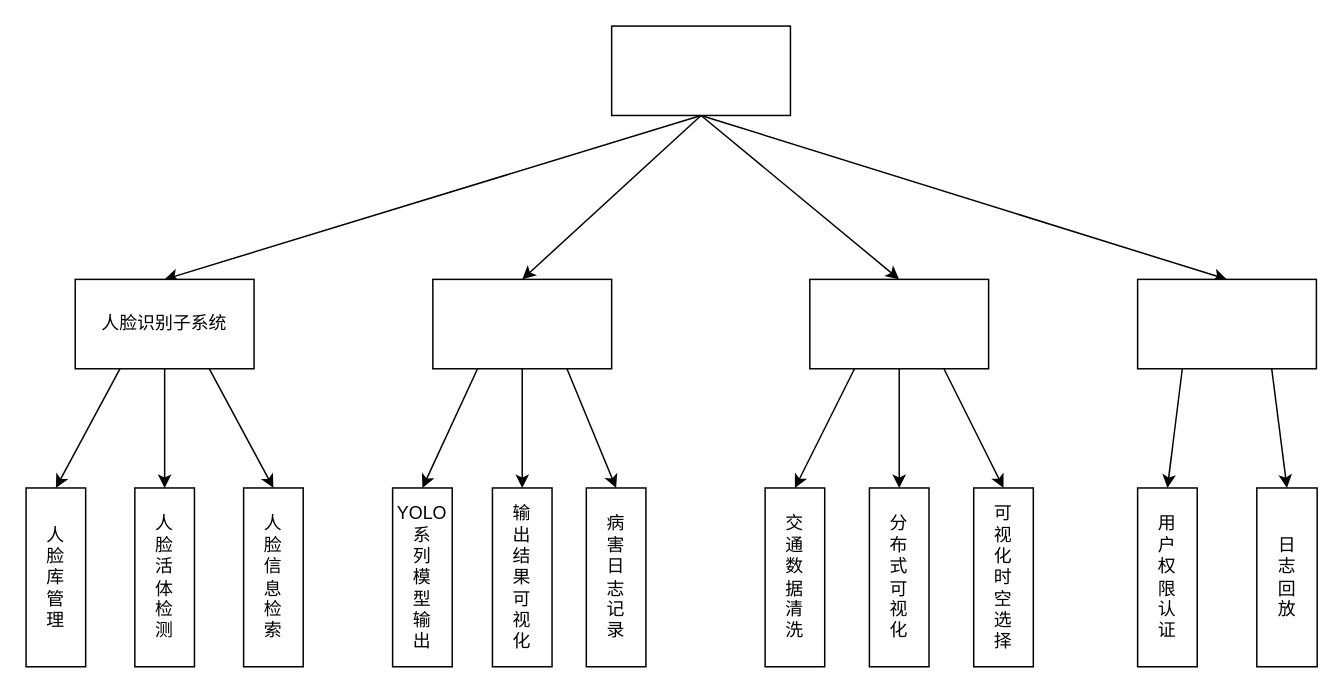
Image size: 1344x693. Some labels were removed from this diagram. Here are the shapes that lost their labels. From the top down, the centre of each, then its label:
point (700, 70): 滴嘟出行系统
point (521, 323): 道路病害识别子模块
point (898, 323): 交通时空信息可视化子模块
point (1226, 323): 告警日志系统
